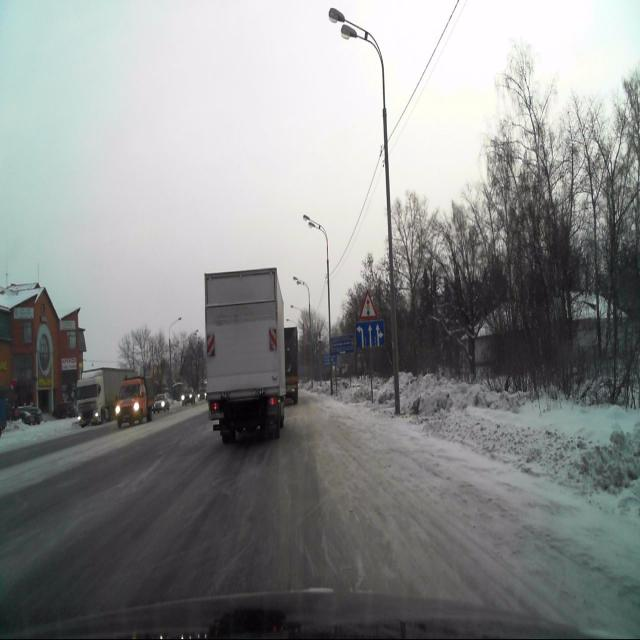road sign: (356, 320, 384, 348), (360, 289, 377, 319)
